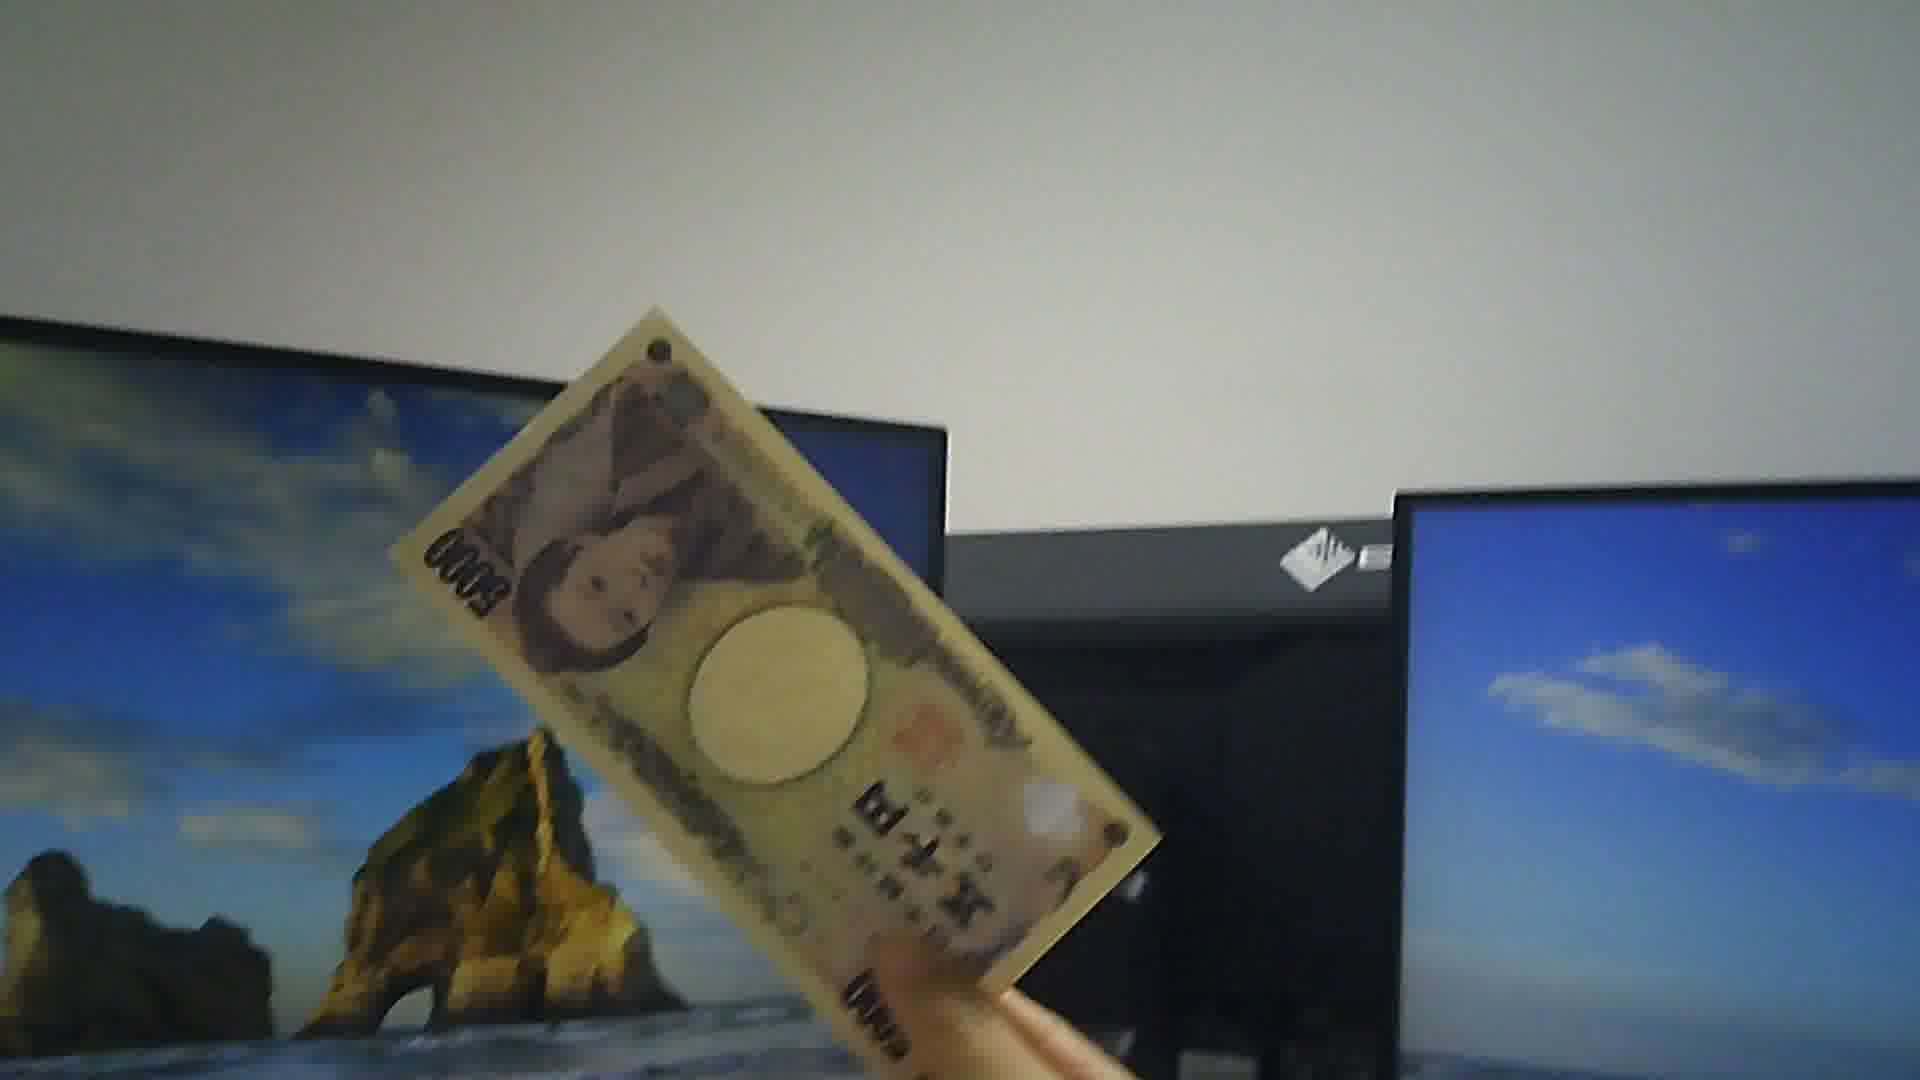5,000 Yen: (365, 318, 1182, 1069)
